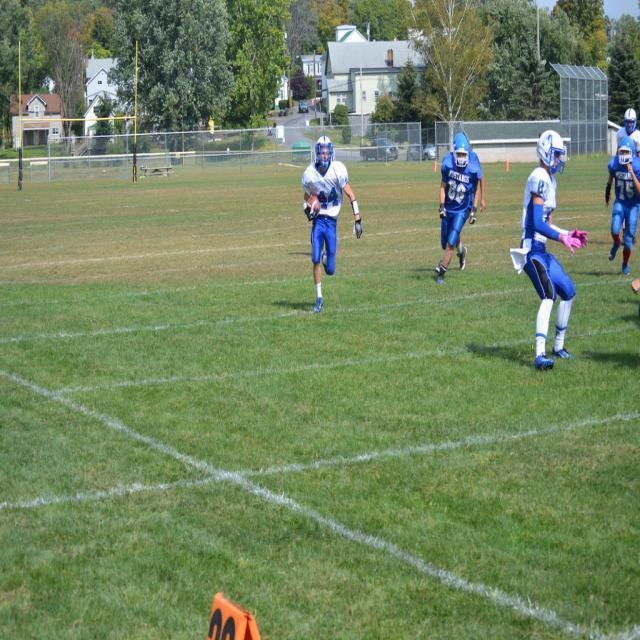ball: (305, 188, 323, 220)
